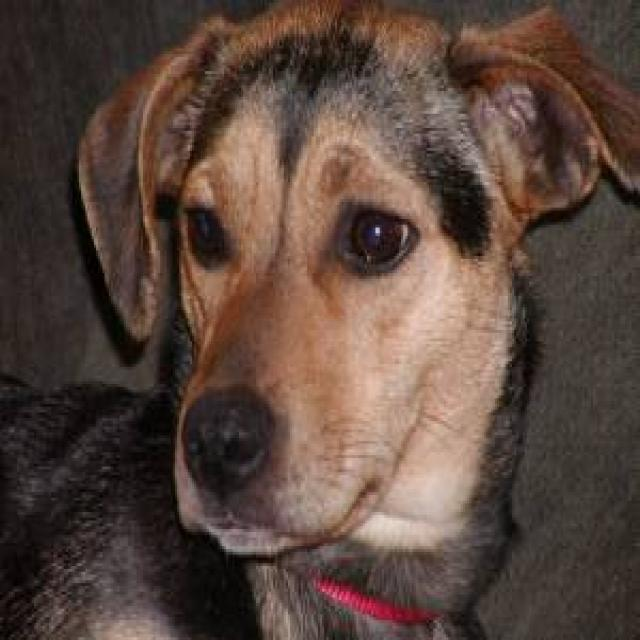dog-miniature_pinscher: (2, 3, 636, 634)
